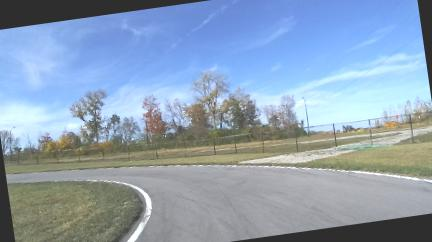Grass: (5, 140, 335, 173), (7, 181, 142, 241), (263, 143, 431, 177), (5, 153, 283, 173), (414, 133, 431, 143)
Lane: (6, 166, 431, 241)
